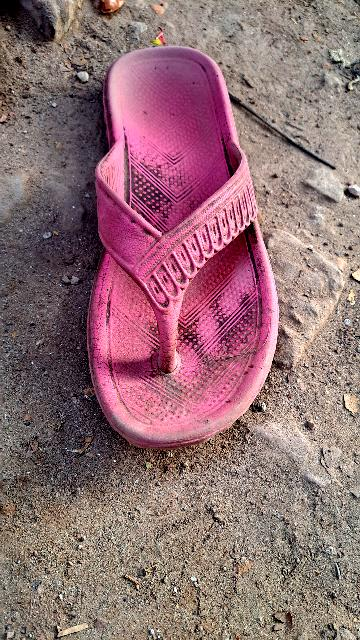sandal: (67, 31, 285, 440)
